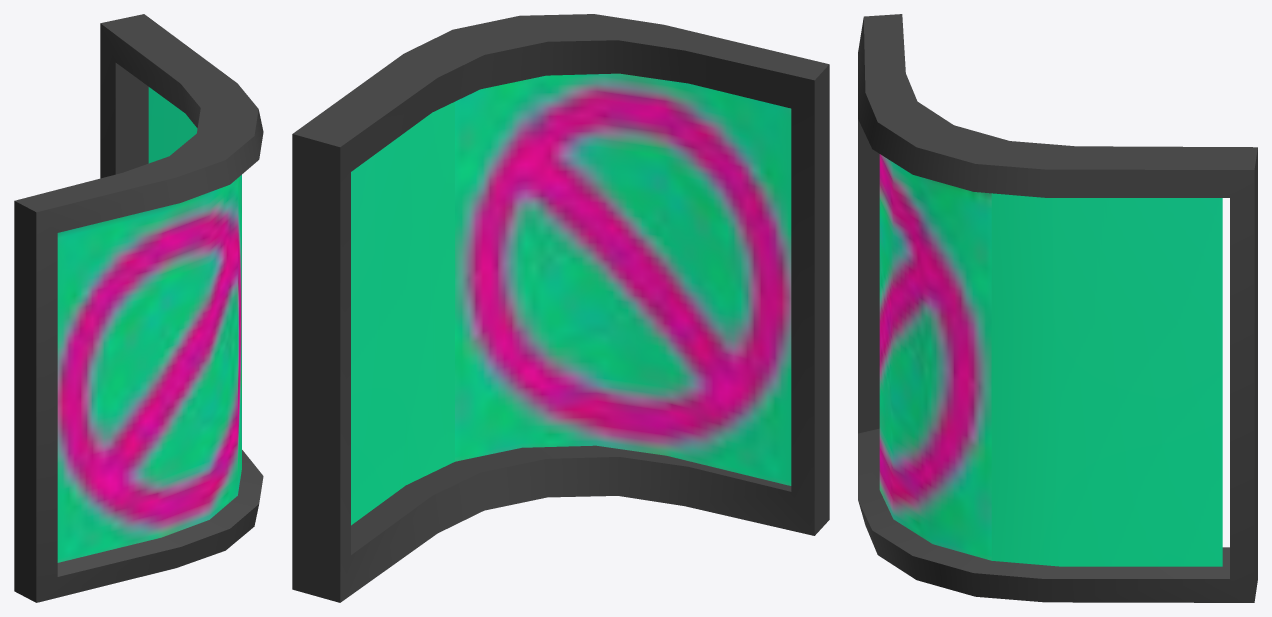
File: Sign_Corner_Small2.glb
3 views of the same model, side by side, from view 1: azimuth 30°, elevation 25°; view 2: azimuth 150°, elevation 25°; view 3: azimuth 270°, elevation 25° (orthographic). The views are drawn at different scales.
Visible parts, largest first — view 1: Sign_Corner_Small2; view 2: Sign_Corner_Small2; view 3: Sign_Corner_Small2.
Boxes of the visible parts, x1,y1,x2,y2 form: Sign_Corner_Small2: (14, 14, 263, 602); Sign_Corner_Small2: (292, 14, 829, 602); Sign_Corner_Small2: (858, 14, 1257, 602).
Size of the model in its own units: 0.5691 by 0.7269 by 0.6085.
2 materials, 1 textured.
